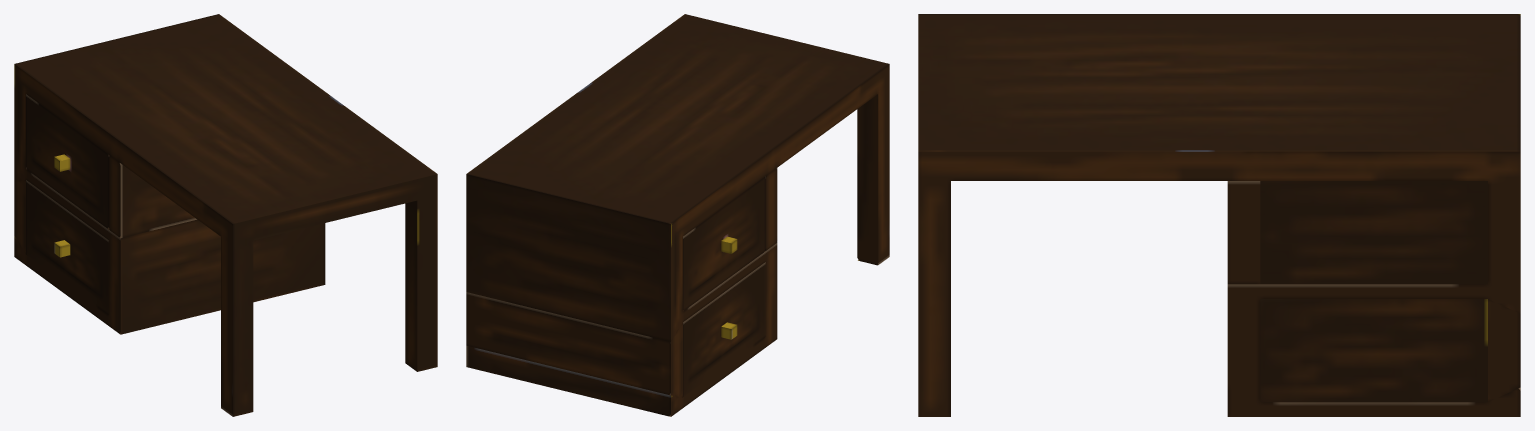
Rendered from Desk.obj.
The picture shows the model from 3 angles, left to right: view 1: azimuth 30°, elevation 25°; view 2: azimuth 150°, elevation 25°; view 3: azimuth 270°, elevation 25°; orthographic projection. The views are drawn at different scales.
Visible parts, largest first — view 1: cuboid, Drawer; view 2: cuboid, Drawer; view 3: cuboid, Drawer.
Boxes of the visible parts, x1=… form: cuboid: x1=14, y1=14, x2=437, y2=416; Drawer: x1=26, y1=94, x2=120, y2=314; cuboid: x1=466, y1=14, x2=889, y2=416; Drawer: x1=670, y1=176, x2=765, y2=396; cuboid: x1=918, y1=14, x2=1520, y2=416; Drawer: x1=1260, y1=181, x2=1487, y2=402.
Size of the model in its own units: 1.31 by 1.12 by 2.31.
1 material, 1 textured.
